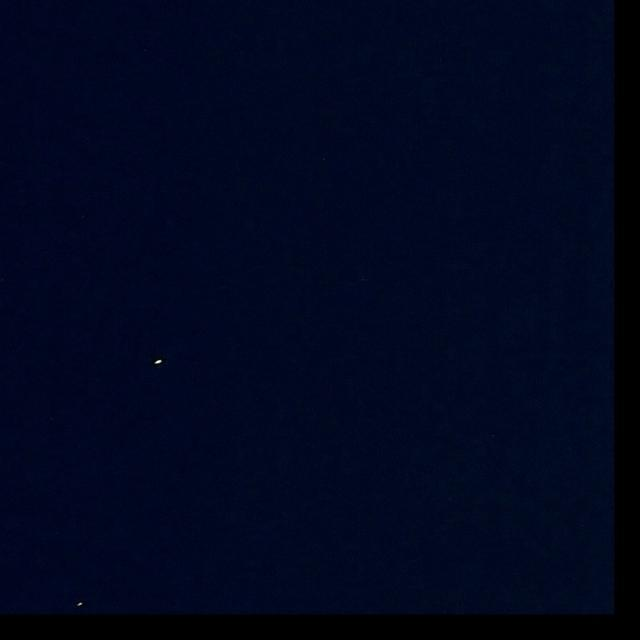ship: (154, 358, 163, 365), (77, 602, 82, 606)
